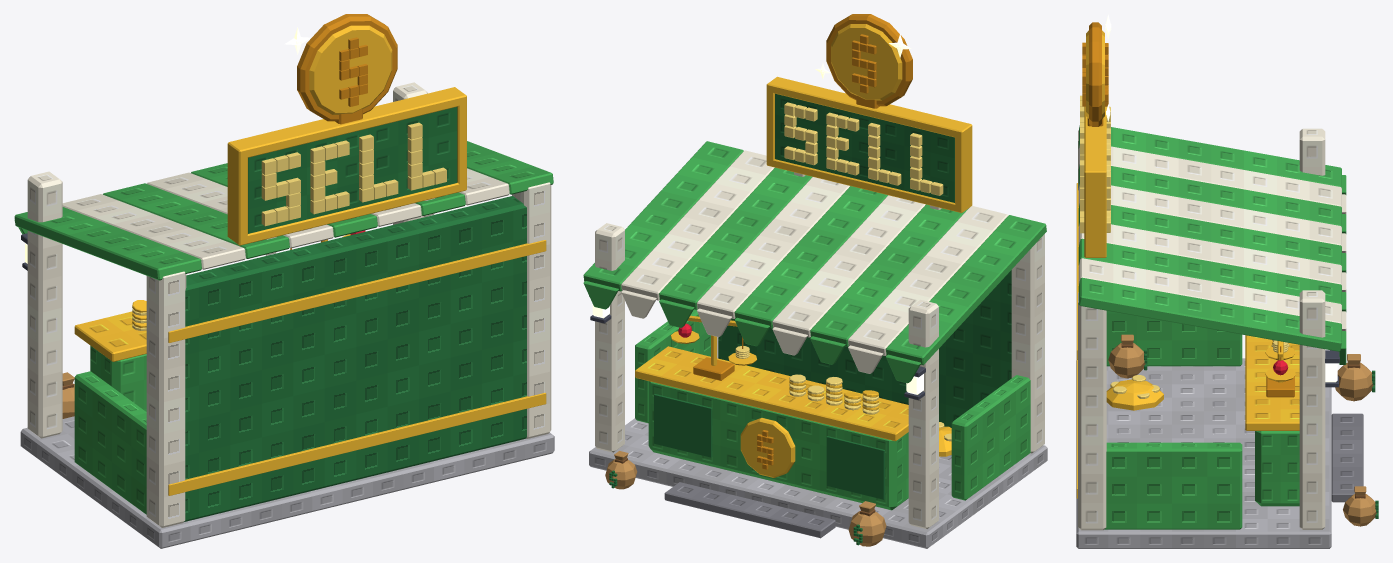
The model's file is SellShop.glb.
3 views of the same model, side by side, from view 1: azimuth 30°, elevation 25°; view 2: azimuth 150°, elevation 25°; view 3: azimuth 270°, elevation 25° (orthographic). The views are drawn at different scales.
Visible parts, largest first — view 1: SellShop; view 2: SellShop, SellShop_Glow; view 3: SellShop, SellShop_Glow.
Boxes of the visible parts, x1,y1,x2,y2 form: SellShop: (14,14,554,548); SellShop: (583,14,1047,548); SellShop_Glow: (592,34,923,394); SellShop: (1076,22,1378,548); SellShop_Glow: (1105,14,1337,382).
Size of the model in its own units: 13 by 15.04 by 9.47.
Materials: 2 (1 with a texture image).
